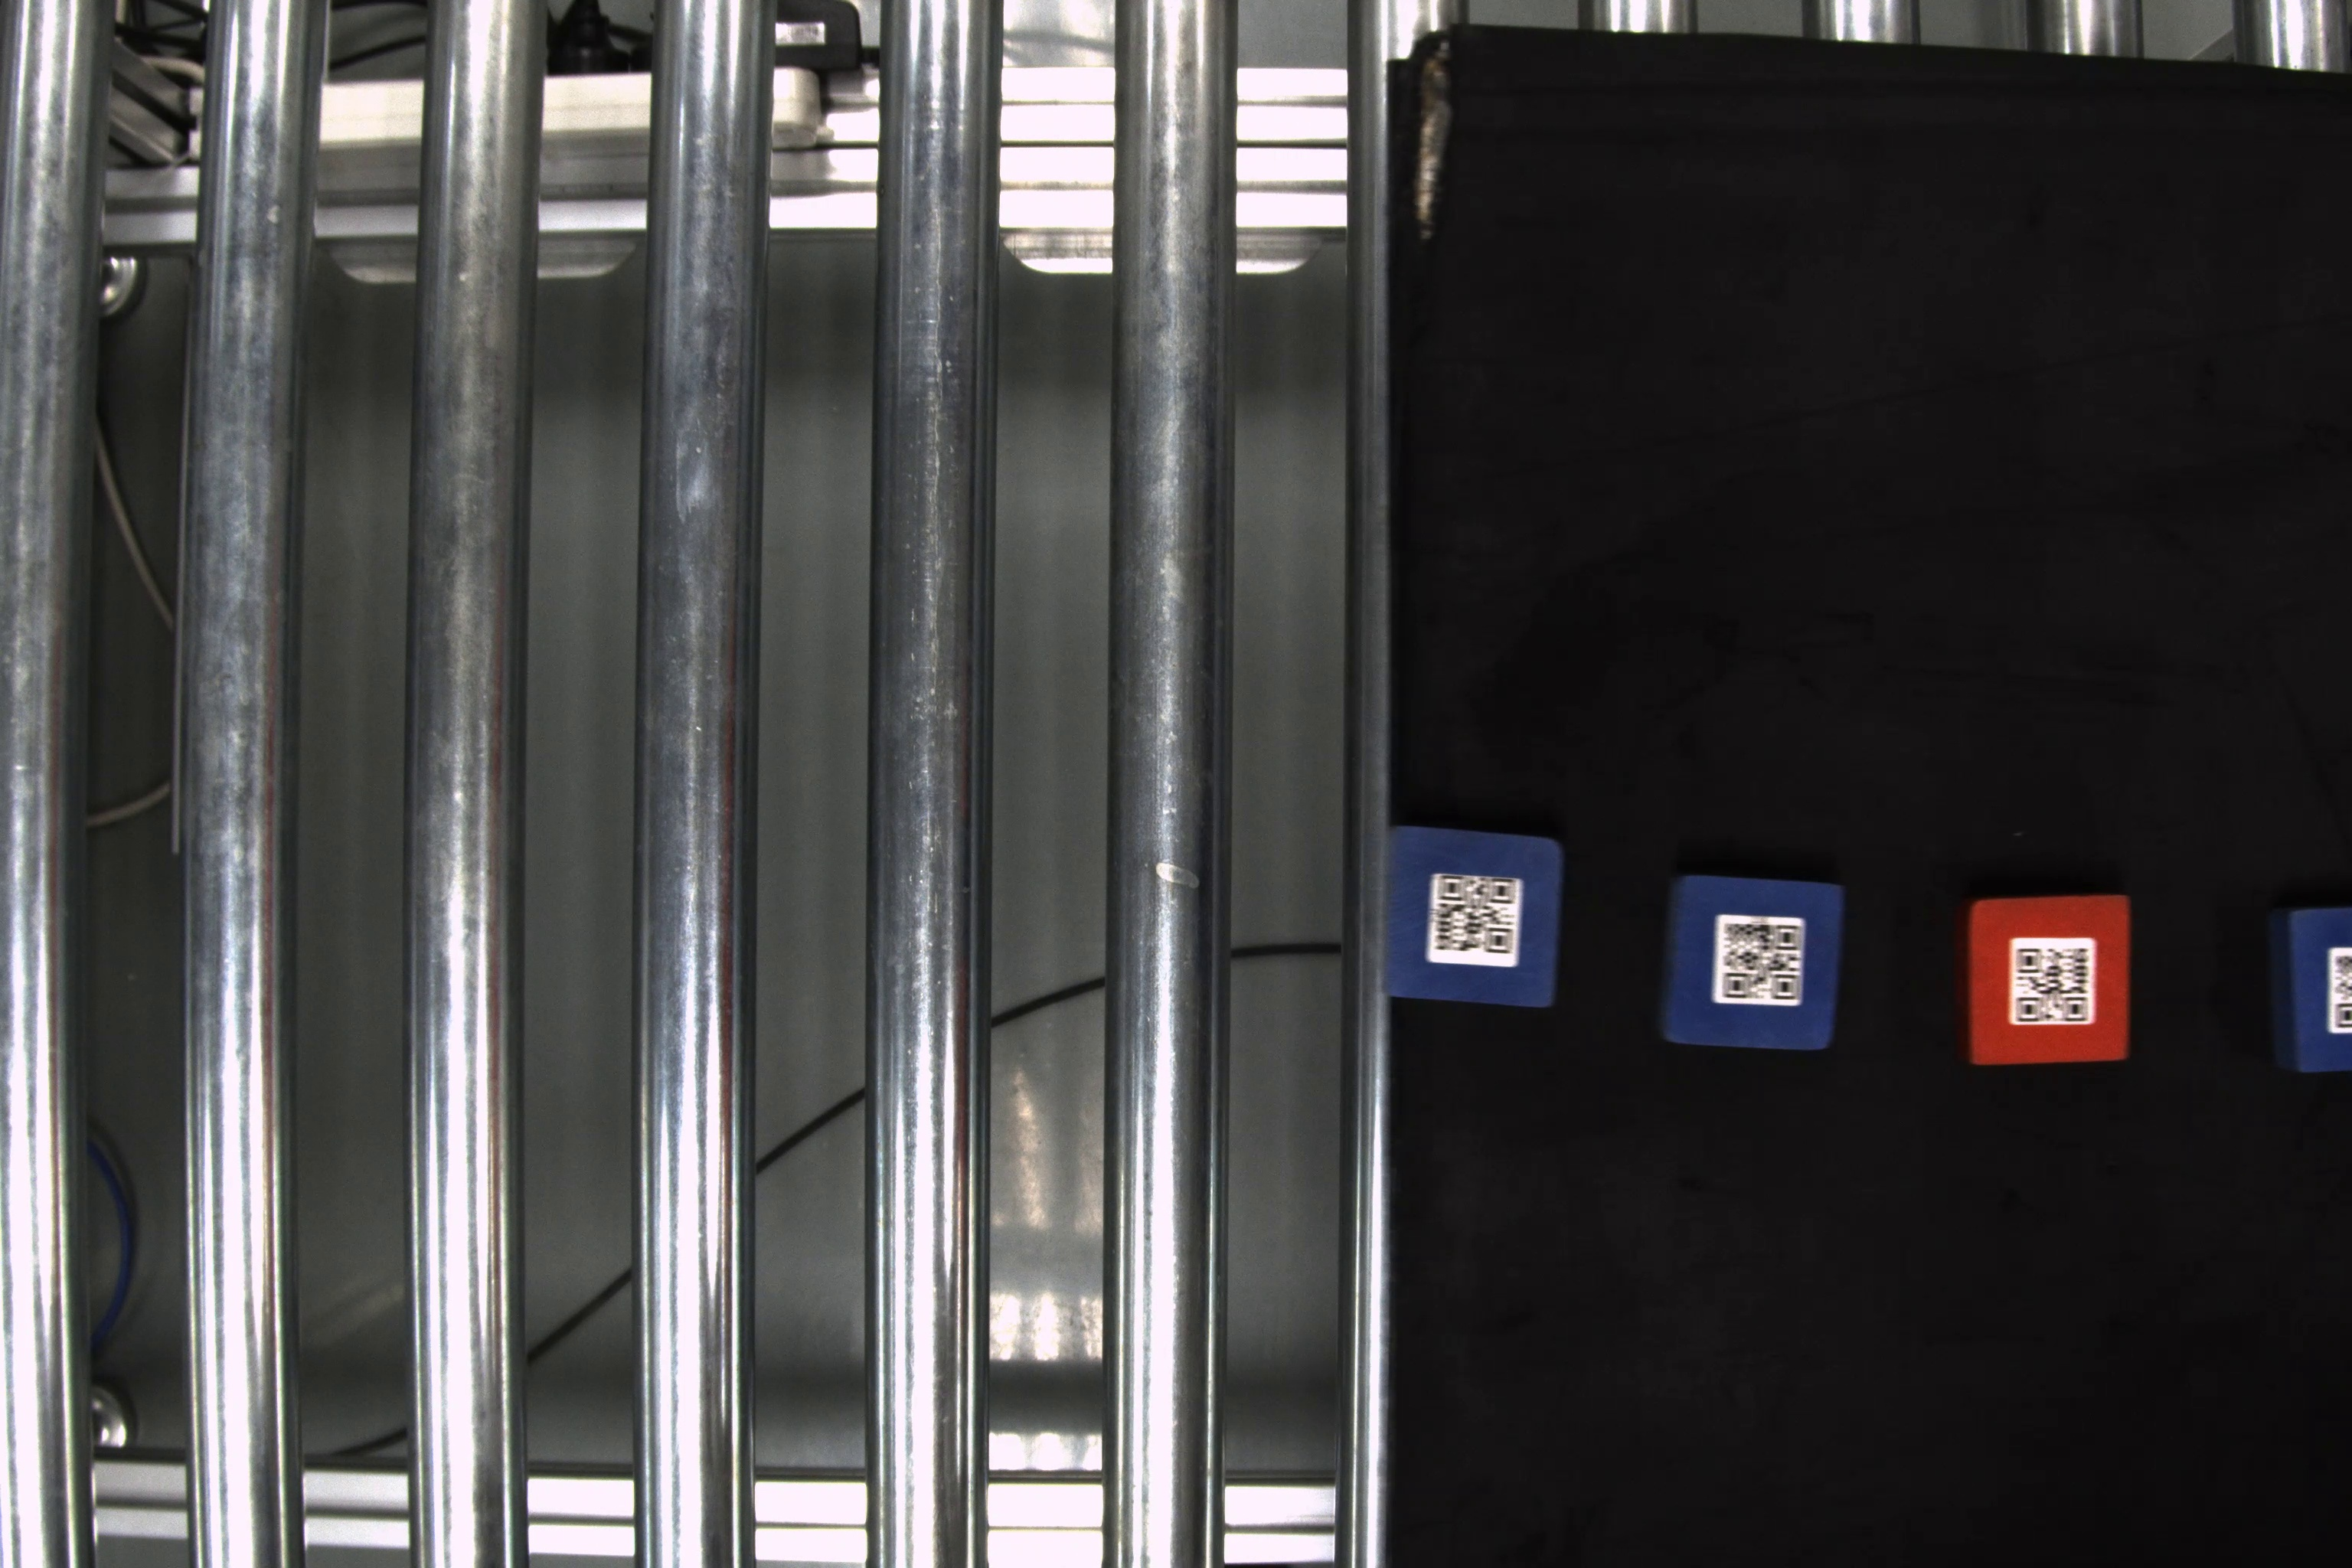wood: (1384, 821, 1571, 1015), (1657, 868, 1844, 1060), (1956, 891, 2138, 1071), (2270, 899, 2348, 1078)
